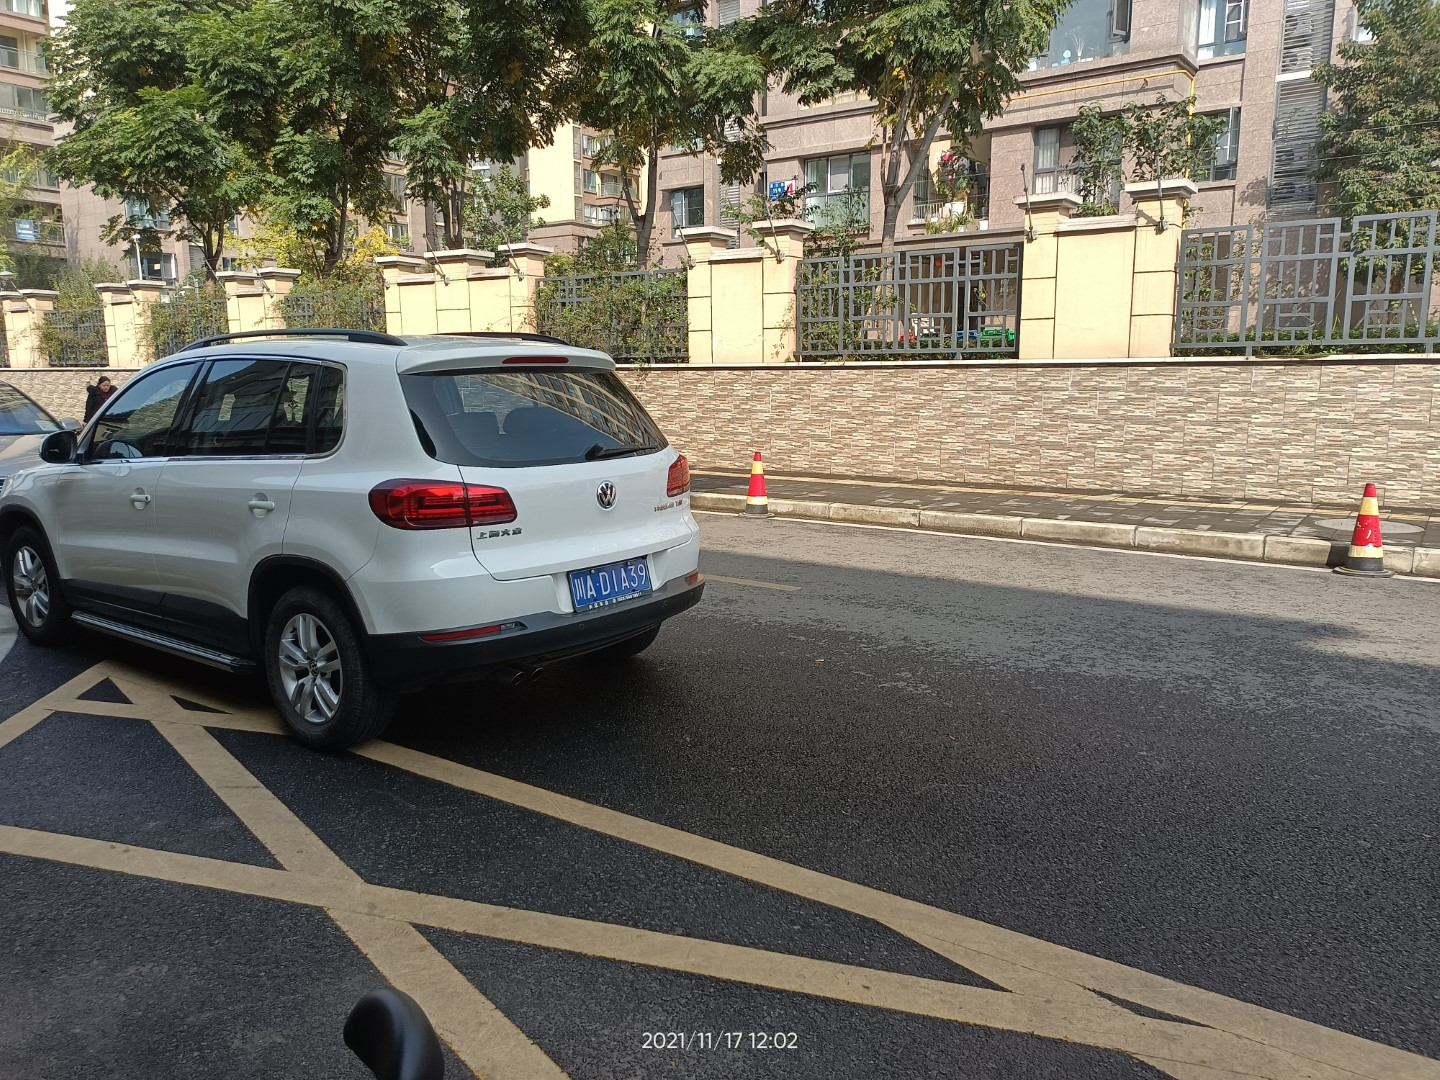plate: (570, 556, 651, 607)
